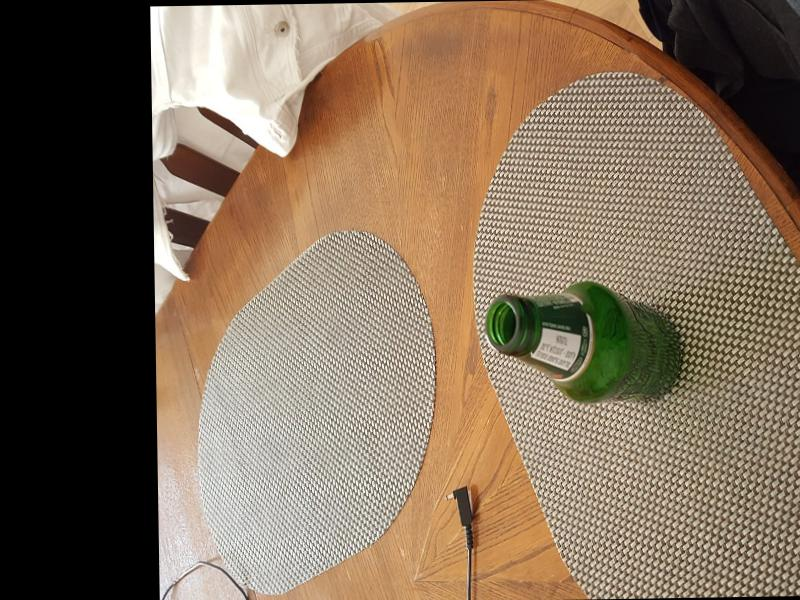Beer: (486, 278, 684, 403)
